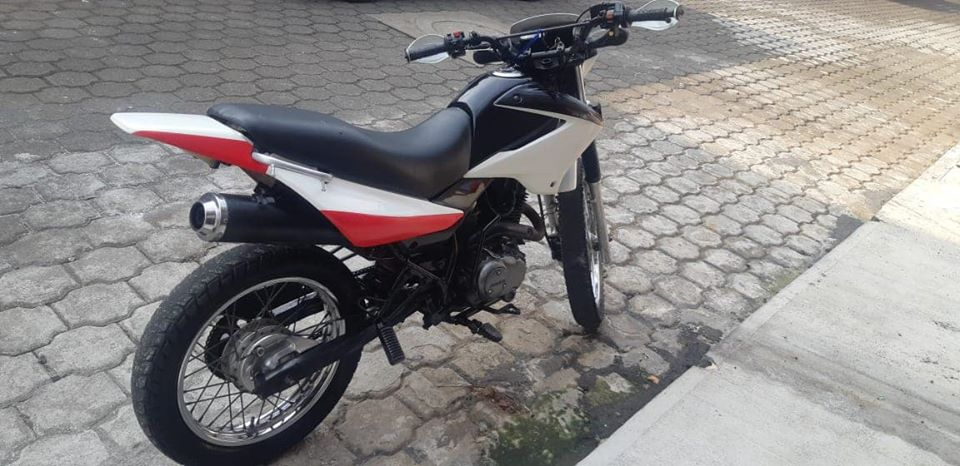moto: (104, 6, 686, 466)
